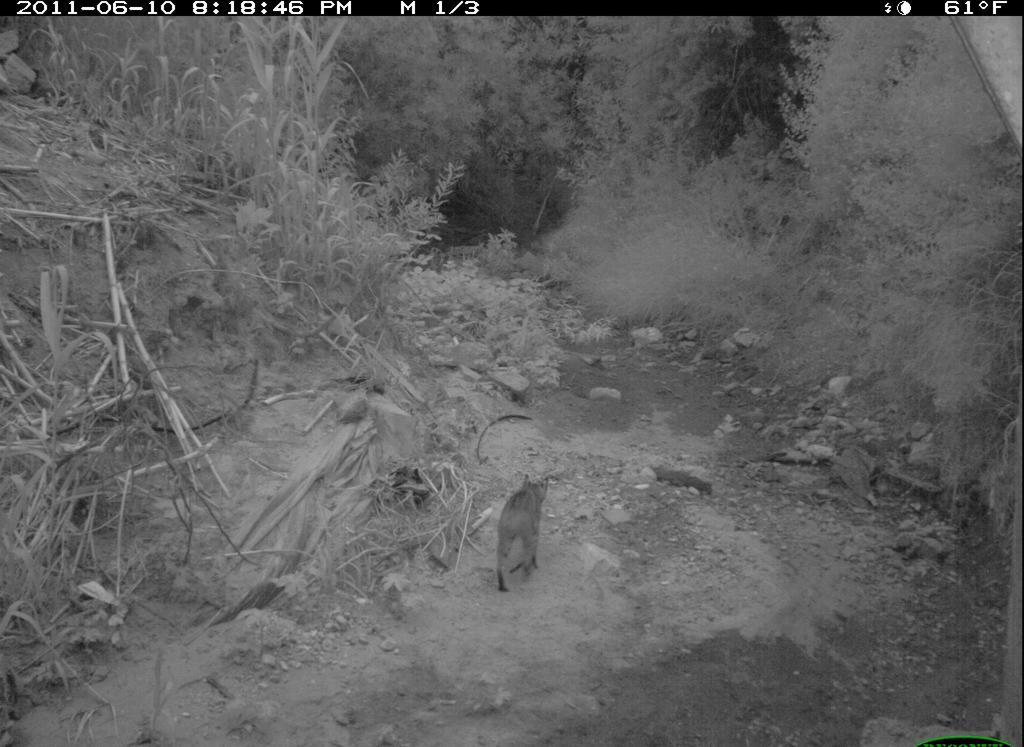bobcat: (494, 473, 552, 601)
